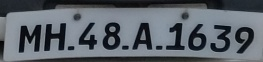character: (17, 23, 42, 53), (43, 22, 67, 51), (209, 23, 231, 52), (234, 25, 254, 54), (77, 22, 97, 50), (165, 21, 184, 50), (132, 22, 152, 49), (187, 23, 206, 50), (102, 22, 120, 49)
